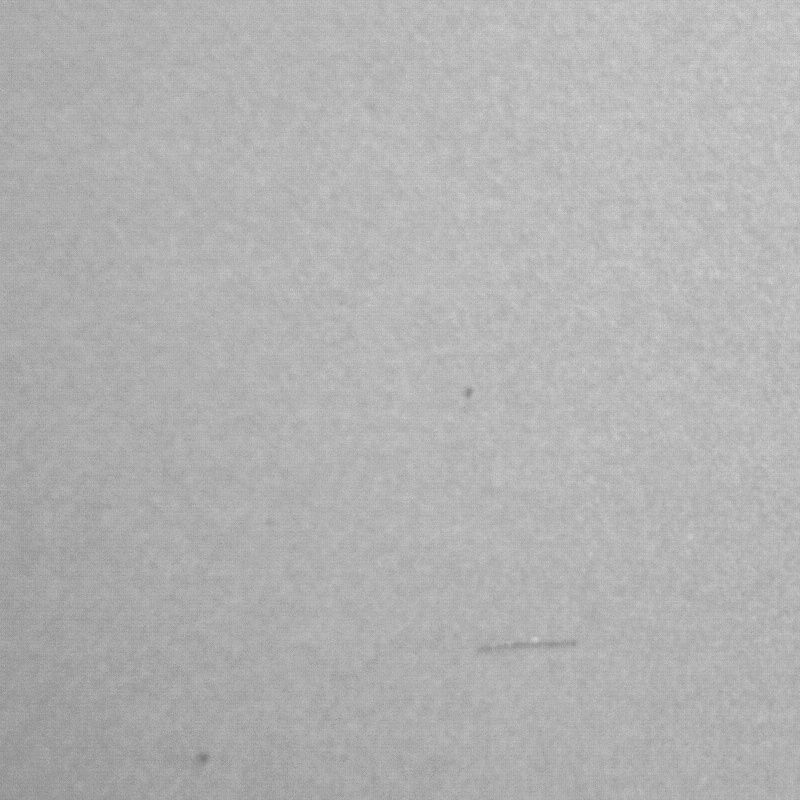defect: (482, 639, 584, 654), (194, 755, 212, 767), (463, 384, 472, 402)
